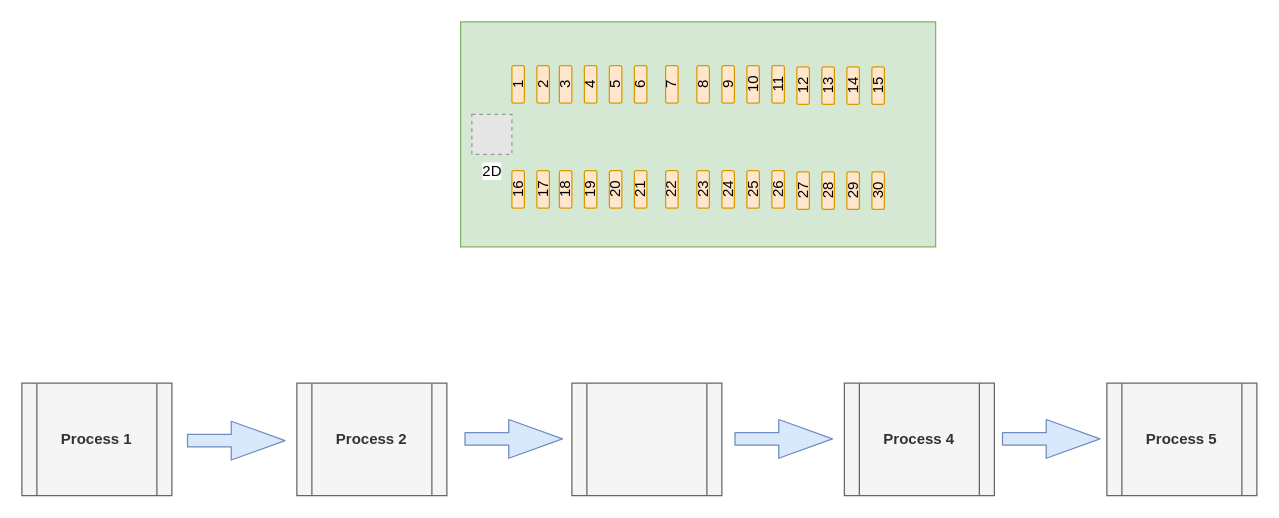
The diagram is 1279 pixels wide and 518 high, and some of its shapes have lost their labels. Grey dashed boxes stand in for pictures. The shapes that lost their labels are listed below. From the top down, each one's box as (x1, y1, x2, y2) in pixels, then its label:
(459, 21, 936, 247): Fixture
(571, 382, 722, 496): Process 3
